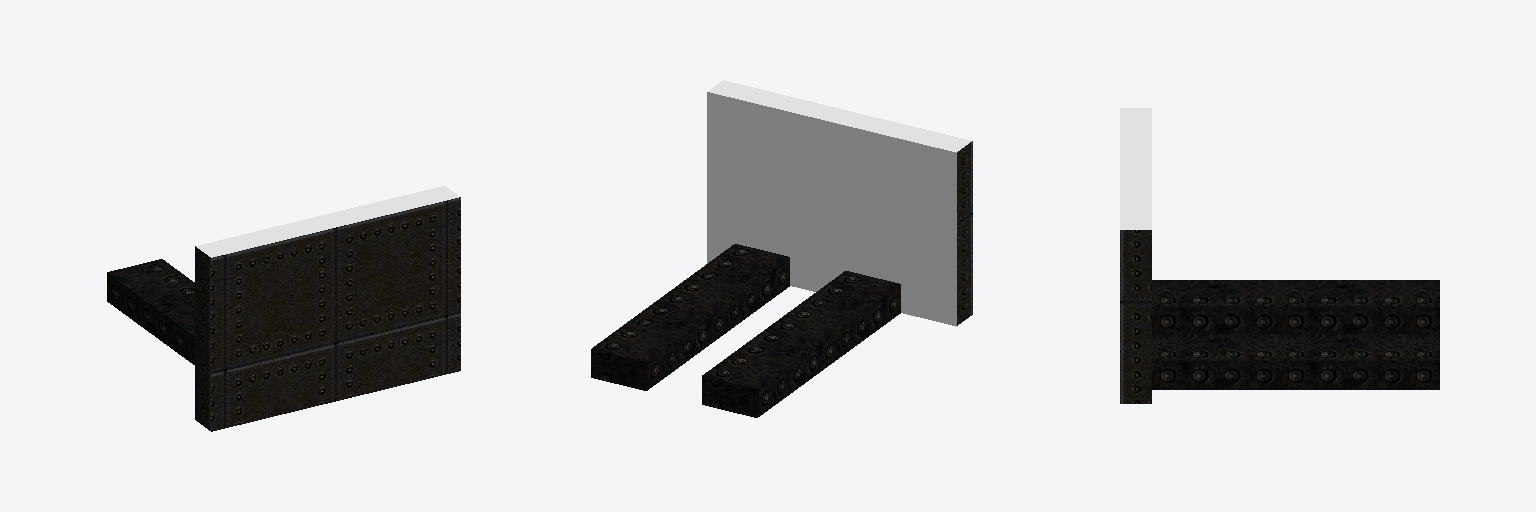
The picture shows the model from 3 angles: view 1: azimuth 30°, elevation 25°; view 2: azimuth 150°, elevation 25°; view 3: azimuth 270°, elevation 25°; orthographic projection.
Bounding box in the file's own units: 144 × 96 × 160.
Materials: 3 (2 with a texture image).